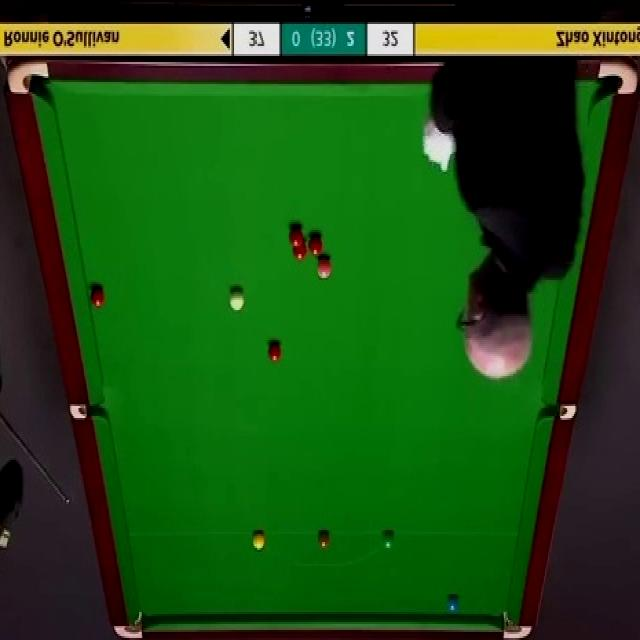blue-ball: (445, 593, 461, 618)
brown-ball: (317, 529, 331, 549)
green-ball: (382, 528, 396, 550)
pink-ball: (314, 255, 332, 279)
red-ball: (267, 340, 283, 364), (307, 235, 324, 257), (288, 224, 304, 247), (89, 285, 104, 309), (291, 240, 308, 261)
white-ball: (227, 286, 244, 314)
yellow-ball: (252, 530, 266, 550)
